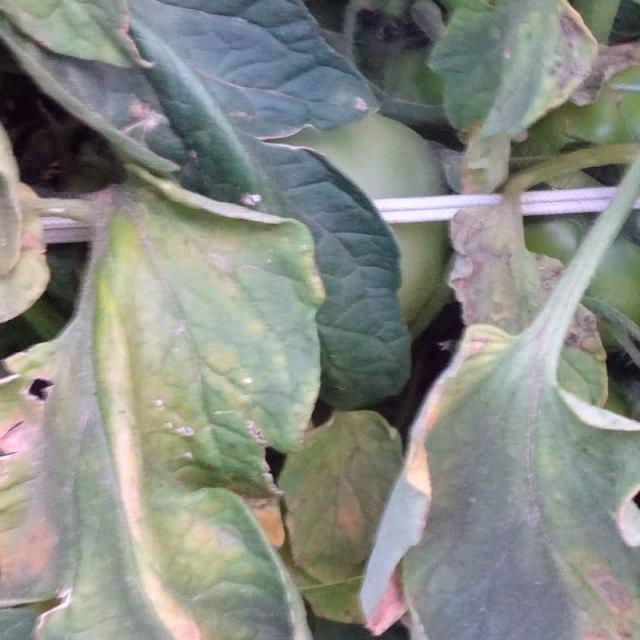Tomato leaf late blight: (368, 274, 640, 640), (421, 0, 624, 174), (611, 0, 640, 129)
